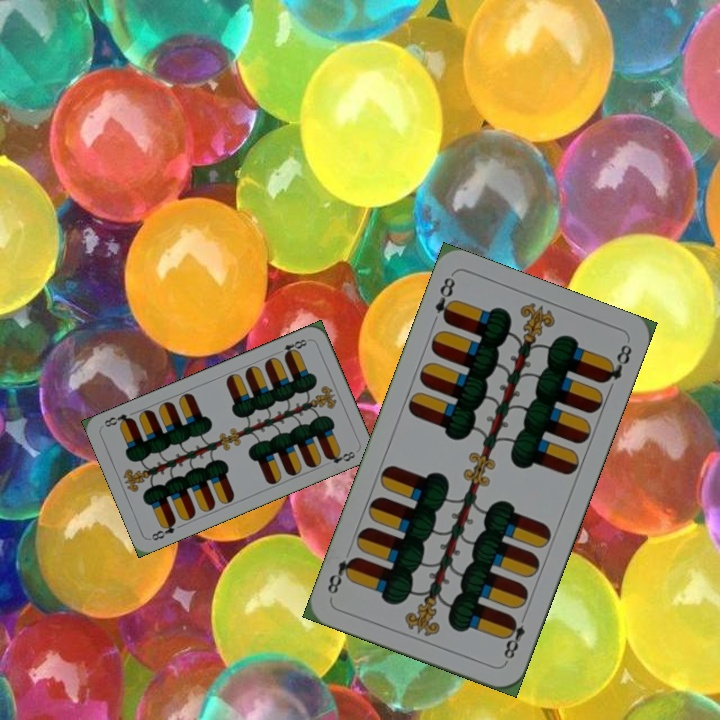E8: (499, 609, 530, 666), (431, 273, 459, 326), (147, 516, 179, 543), (279, 335, 312, 360)
